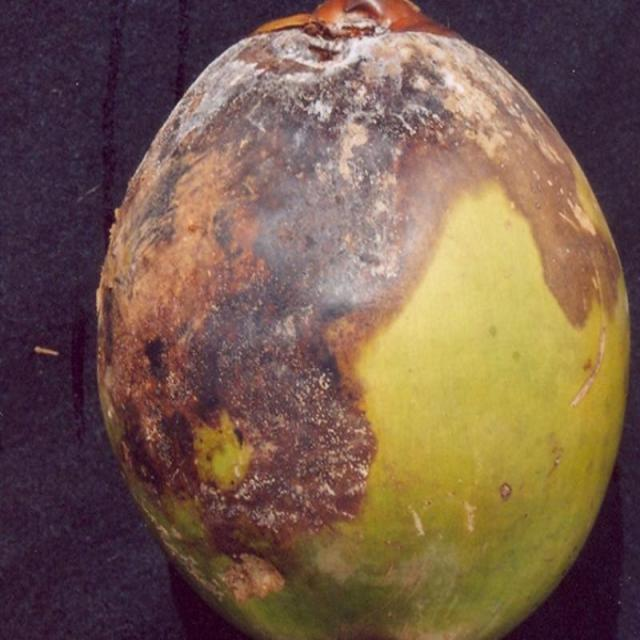damaged: (97, 0, 629, 639)
